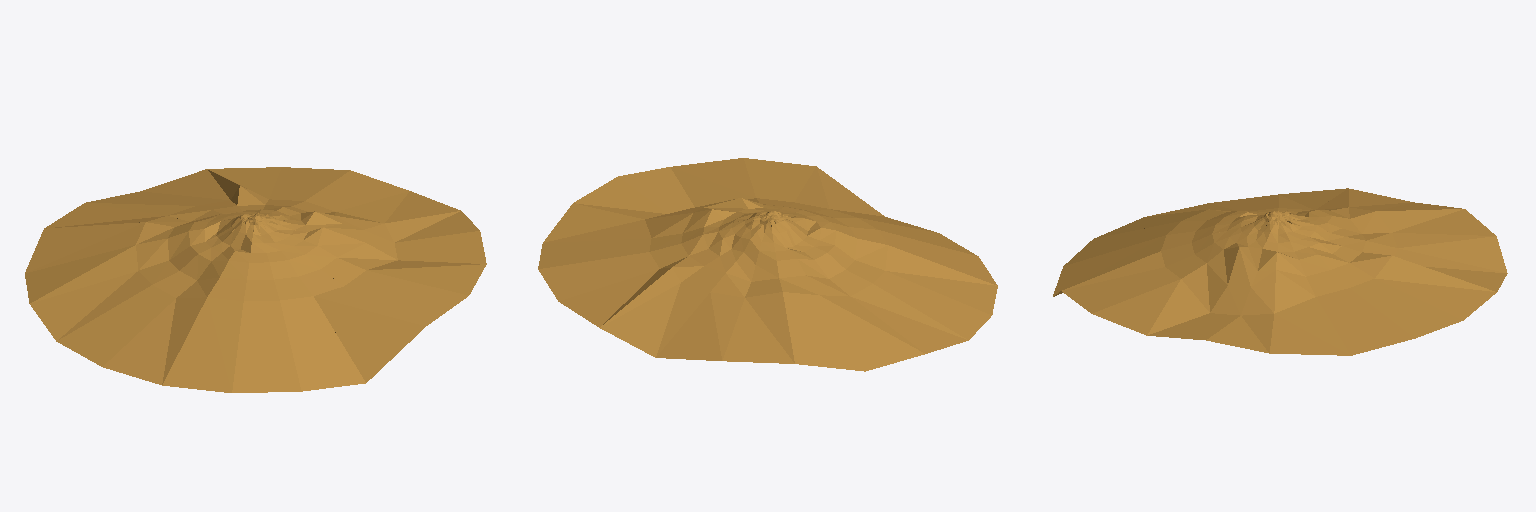
The model's file is newisland.obj.
3 views of the same model, side by side, from view 1: azimuth 30°, elevation 25°; view 2: azimuth 150°, elevation 25°; view 3: azimuth 270°, elevation 25° (orthographic).
Parts seen in each view (by area): view 1: GeoSphere001; view 2: GeoSphere001; view 3: GeoSphere001.
Boxes of the visible parts, x1,y1,x2,y2 form: GeoSphere001: [25, 167, 486, 392]; GeoSphere001: [538, 158, 997, 371]; GeoSphere001: [1053, 188, 1507, 355].
Size of the model in its own units: 312 by 64.28 by 307.